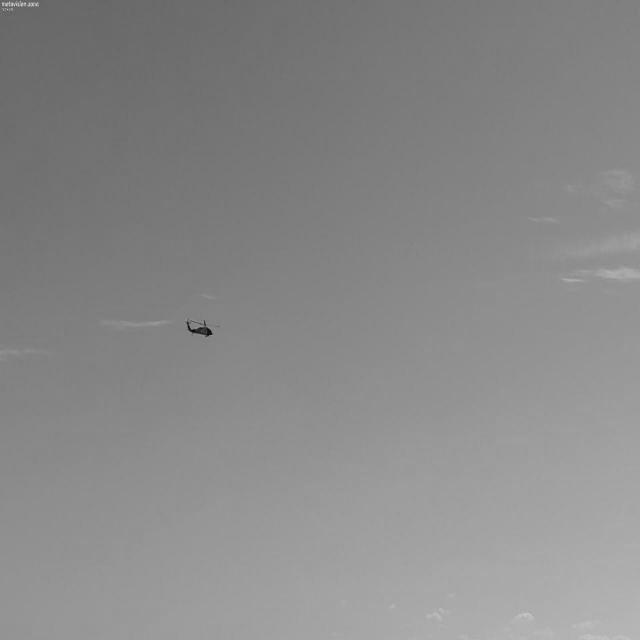helikopter: (158, 290, 245, 396)
